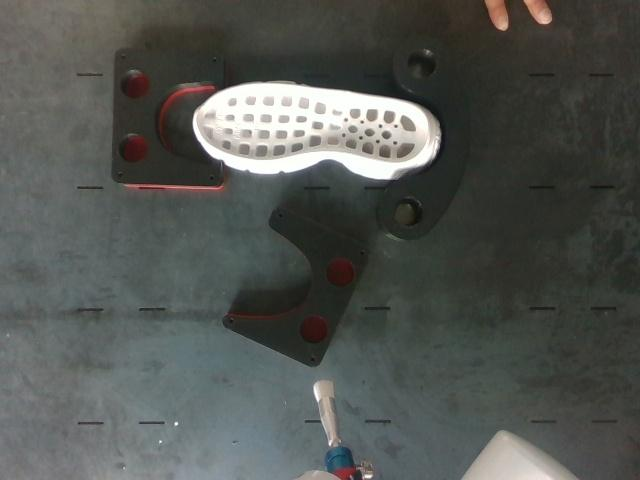shoes: (196, 85, 429, 163)
